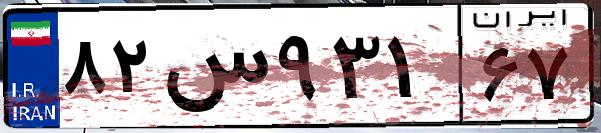1: (385, 28, 445, 110)
2: (110, 28, 158, 98)
3: (330, 28, 385, 110)
6: (475, 38, 525, 113)
7: (525, 38, 570, 115)
8: (57, 26, 110, 100)
9: (270, 28, 330, 110)
س: (158, 20, 270, 120)
